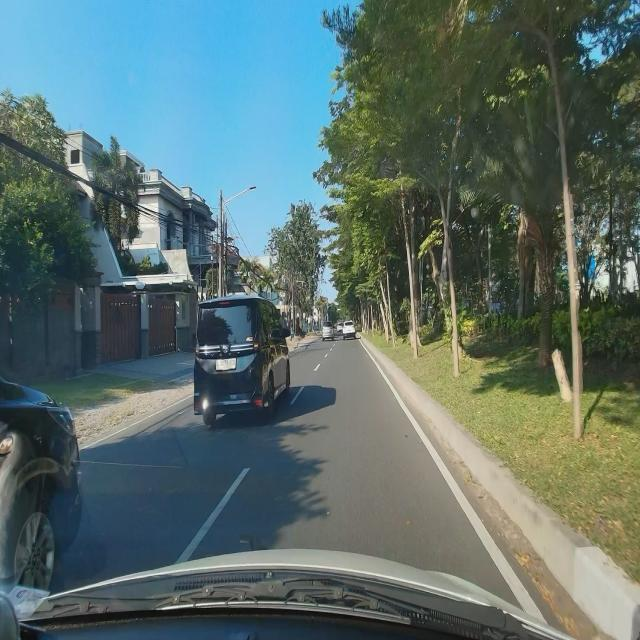car: (192, 292, 291, 427)
license-plate: (216, 356, 237, 372)
